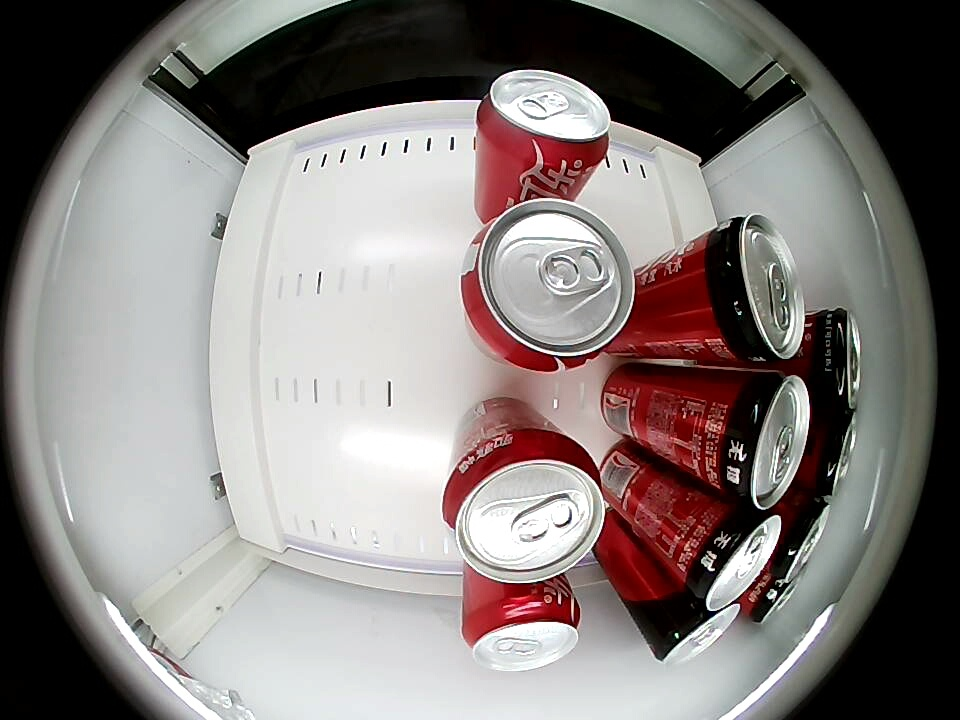kele: (463, 199, 636, 372), (444, 432, 608, 585), (478, 70, 612, 167), (462, 595, 581, 673)
lingdukele: (693, 213, 803, 365), (705, 370, 810, 508), (675, 501, 781, 613), (649, 591, 741, 665), (805, 305, 862, 409), (802, 407, 858, 499), (770, 497, 833, 578), (744, 569, 800, 625)
